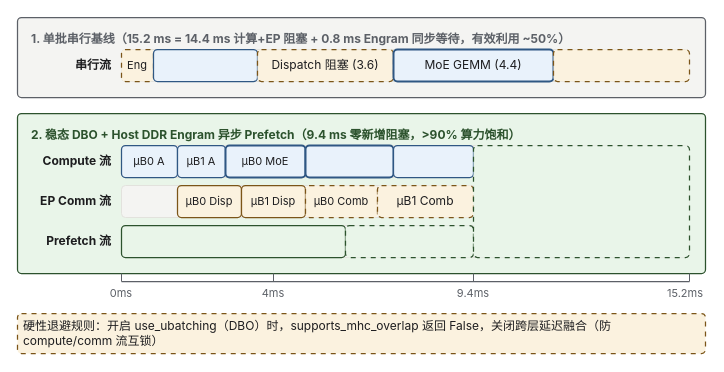
Image size: 724x372. Some labels were removed from this diagram. The shapes that lost their labels are listed below. From the top down, each one's centre as x and y in pixels, then its label:
At (x=205, y=65): "Attn (2.8)".
At (x=621, y=65): "Combine 阻塞 (3.6)".
At (x=349, y=161): "μB1 MoE".
At (x=433, y=161): "下层 μB0".
At (x=581, y=201): "1.62× 提速 (9.4 ms)".
At (x=233, y=241): "Host DDR 196B · 6.0 ms Prefetch".
At (x=409, y=241): "wait_event 接管".
